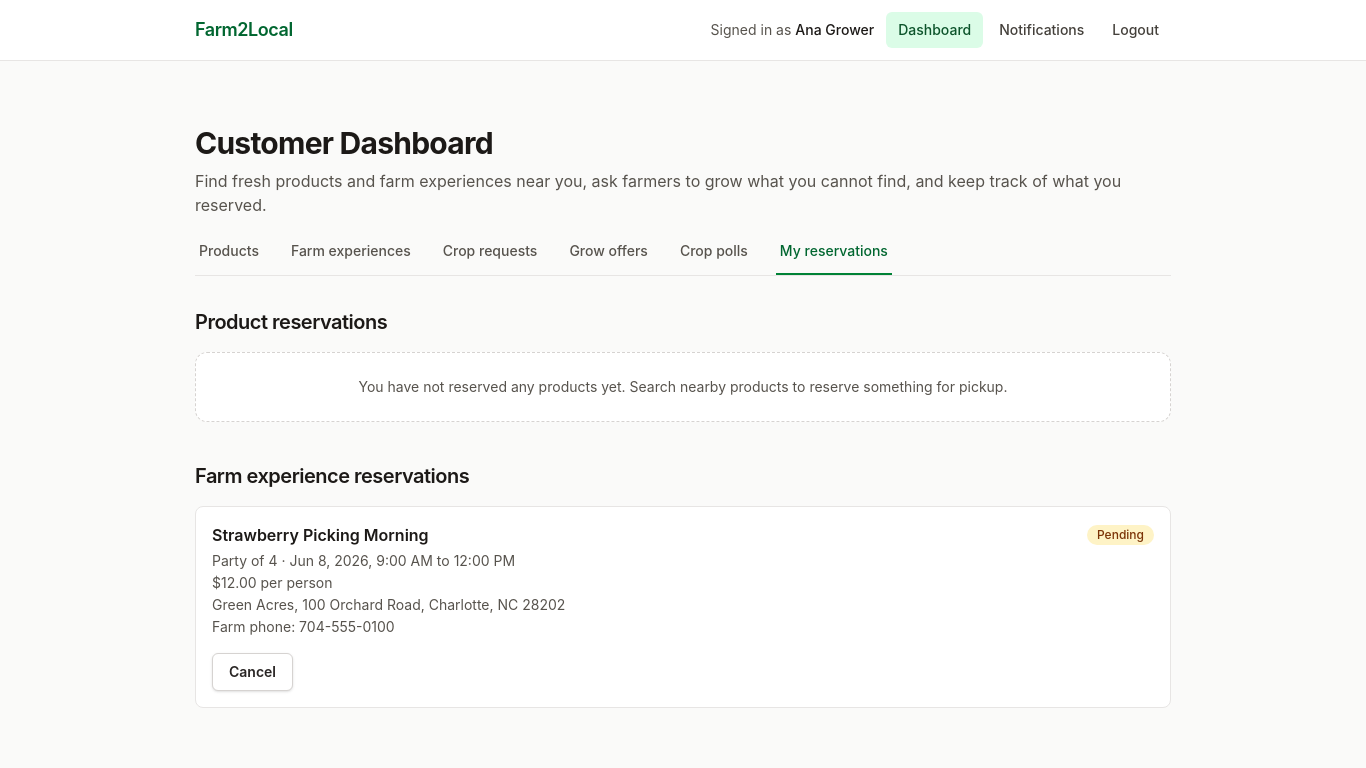
customer reservations › cancels a farm experience reservation
Click the button with aria-label "Cancel reservation for Strawberry Picking Morning". click: [252, 672]
box: top-left (212, 653), bottom-right (293, 691)
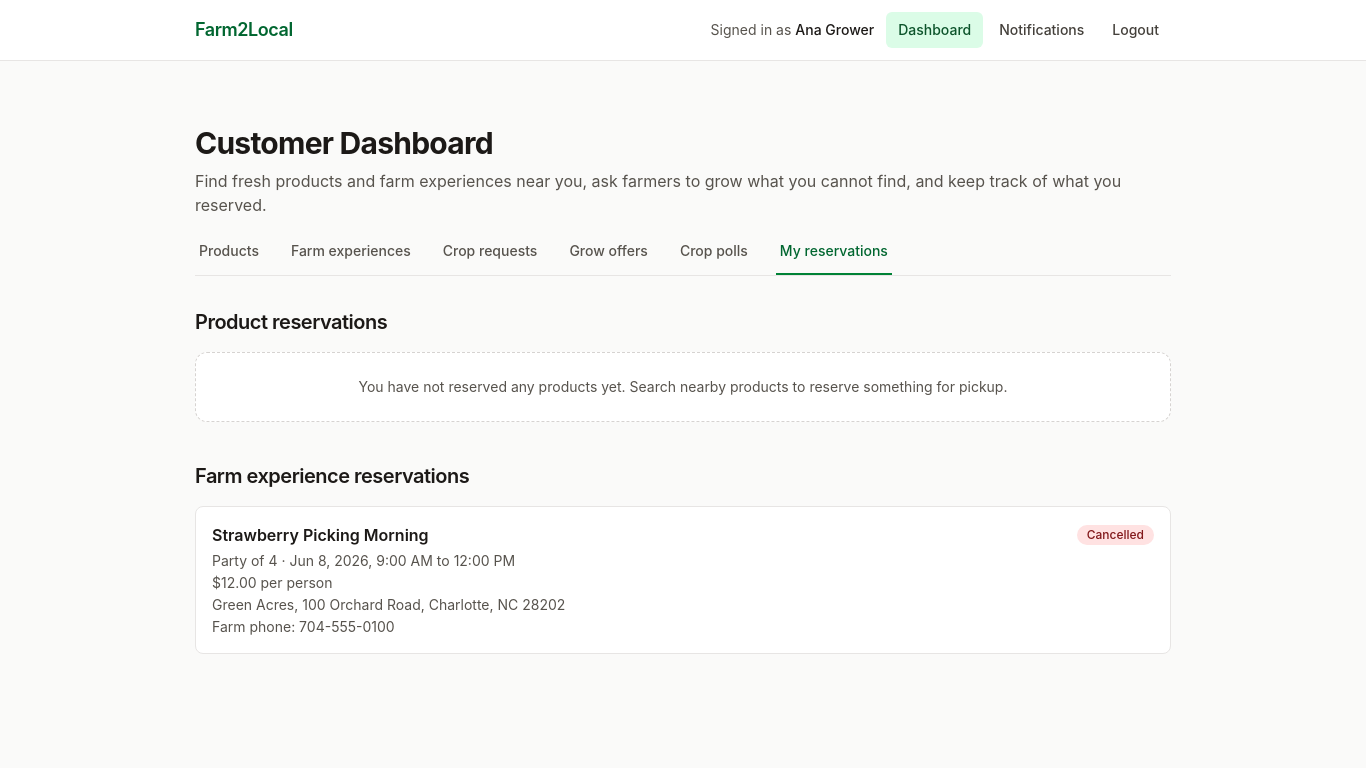
Result: the text "Cancelled" is shown at top-left (1077, 525), bottom-right (1154, 545)
